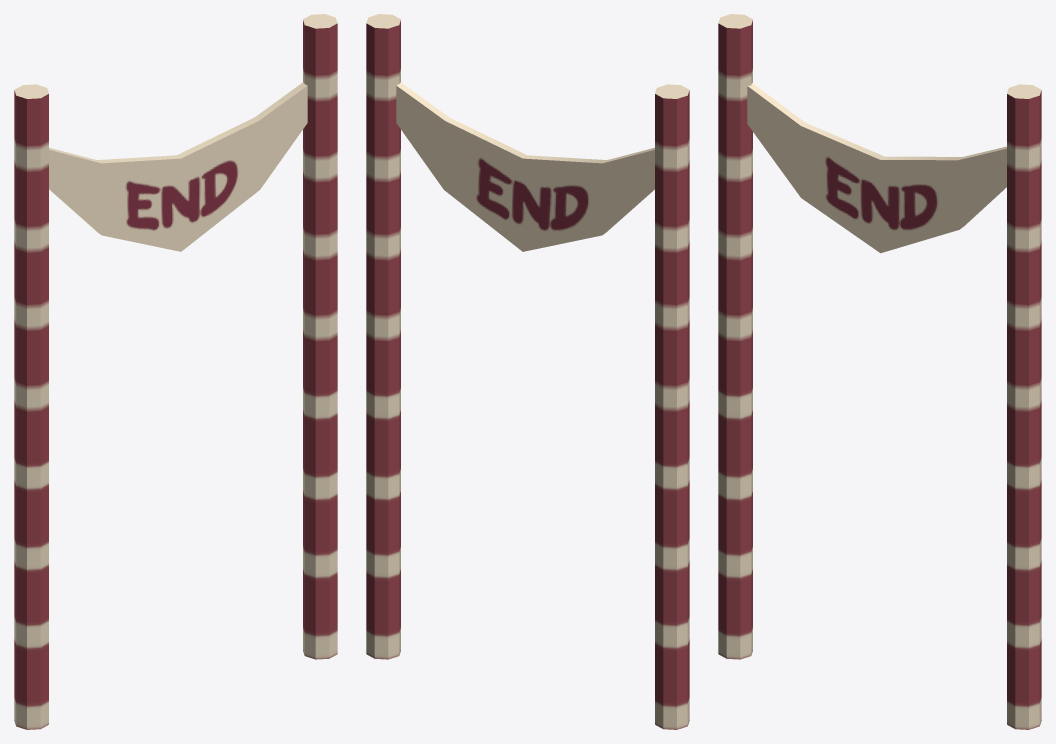
The model's file is Asset_End_Bridge.fbx.
3 renders of one model, left to right at view 1: azimuth 30°, elevation 25°; view 2: azimuth 150°, elevation 25°; view 3: azimuth 330°, elevation 25°, orthographic.
Visible parts, largest first — view 1: pCylinder3; view 2: pCylinder3; view 3: pCylinder3.
Boxes of the visible parts, x1=… form: pCylinder3: x1=14, y1=14, x2=337, y2=729; pCylinder3: x1=366, y1=14, x2=689, y2=729; pCylinder3: x1=718, y1=14, x2=1041, y2=729.
Size of the model in its own units: 71.37 by 135 by 6.96.
